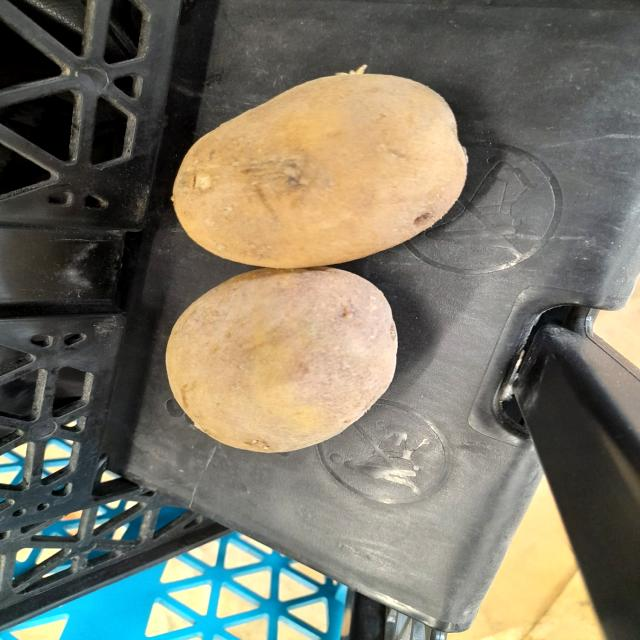potato: (150, 67, 493, 271), (156, 248, 417, 454)
